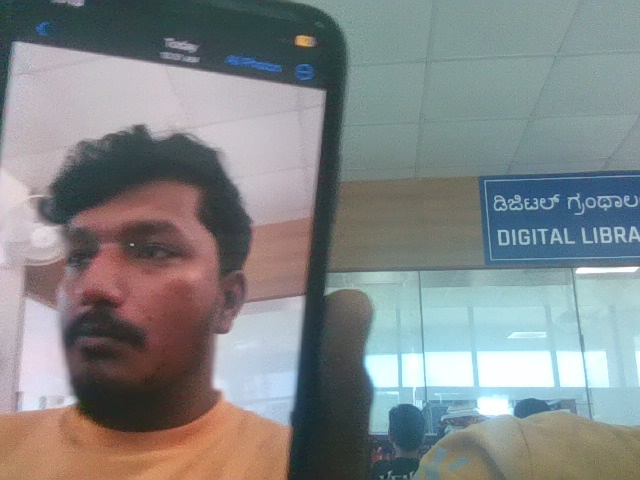fake: (31, 103, 251, 415)
